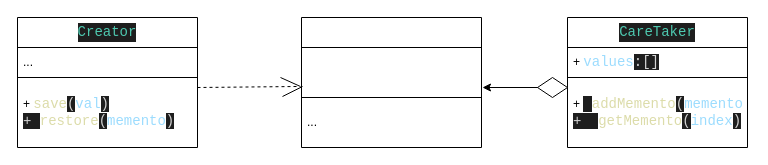
Image size: 768x165. Some labels were removed from this diagram. The box of each missing label's shape, as (x1, y1, x2, y2) in pixels:
+ value :: (300, 46, 482, 98)
Memento: (300, 16, 482, 148)
